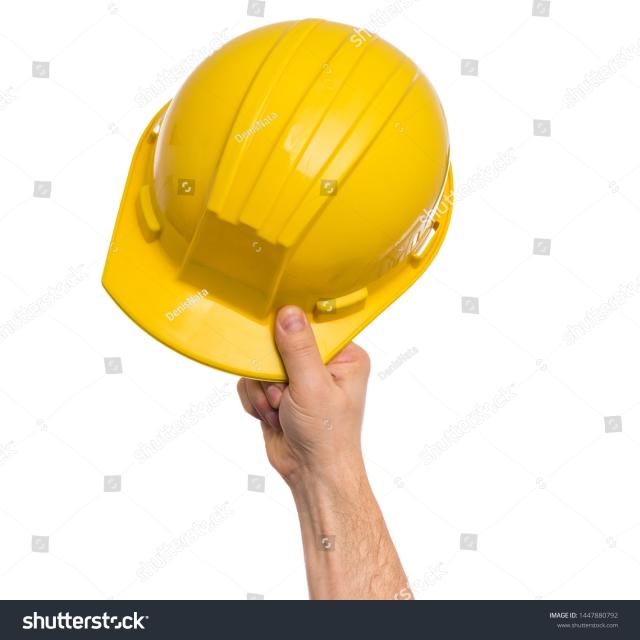helmet: (80, 33, 482, 360)
